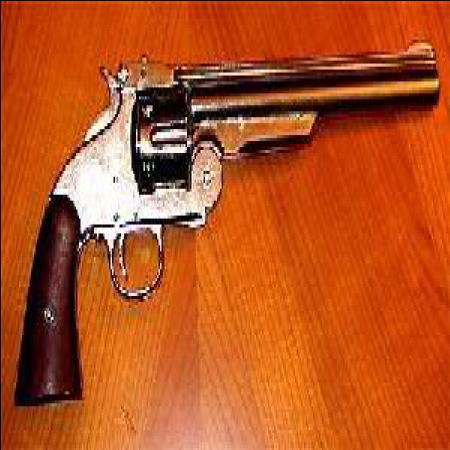Pistol: (8, 33, 438, 402)
